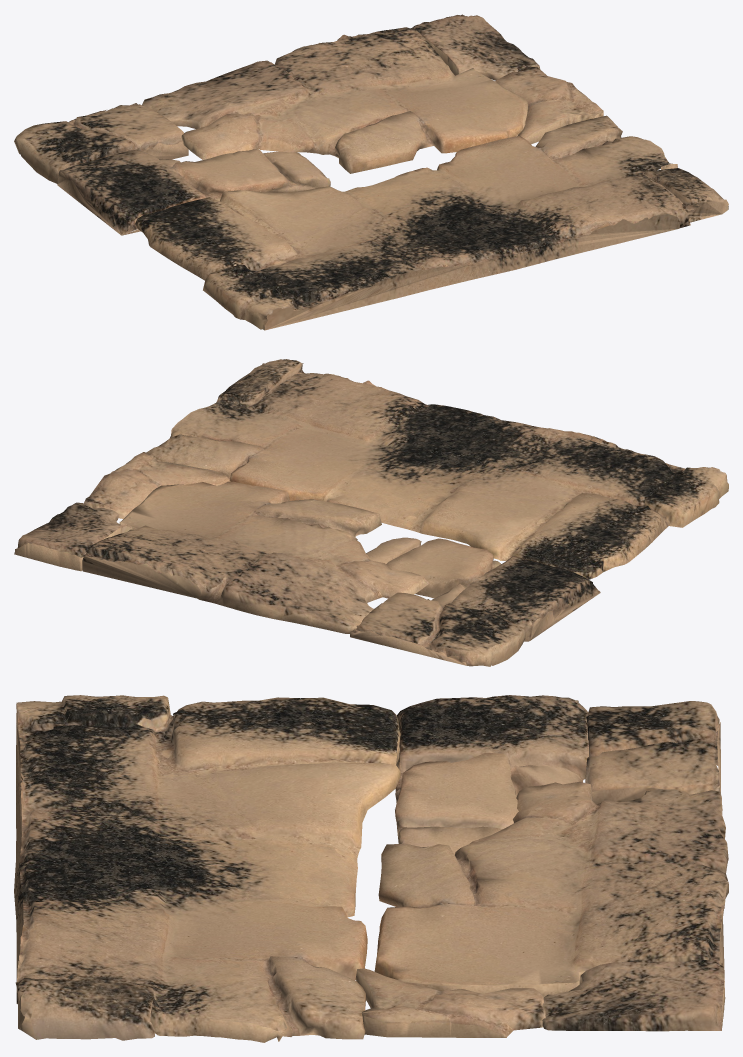
The model's file is Room_G_Coating_Base_Forge.gltf.
3 views of the same model, one above another, from view 1: azimuth 30°, elevation 25°; view 2: azimuth 150°, elevation 25°; view 3: azimuth 270°, elevation 25° (orthographic). The views are drawn at different scales.
Visible parts, largest first — view 1: Room_G_Coating_Base_Forge_Aset_stone_pavestone_M_tkkrcayfa_L; view 2: Room_G_Coating_Base_Forge_Aset_stone_pavestone_M_tkkrcayfa_L; view 3: Room_G_Coating_Base_Forge_Aset_stone_pavestone_M_tkkrcayfa_L.
Boxes of the visible parts, <box> form: Room_G_Coating_Base_Forge_Aset_stone_pavestone_M_tkkrcayfa_L: <box>14,14,728,330</box>; Room_G_Coating_Base_Forge_Aset_stone_pavestone_M_tkkrcayfa_L: <box>14,359,728,666</box>; Room_G_Coating_Base_Forge_Aset_stone_pavestone_M_tkkrcayfa_L: <box>14,695,728,1042</box>.
Bounding box in the file's own units: 1.45 × 0.1201 × 1.34.
Materials: 1 (1 with a texture image).
